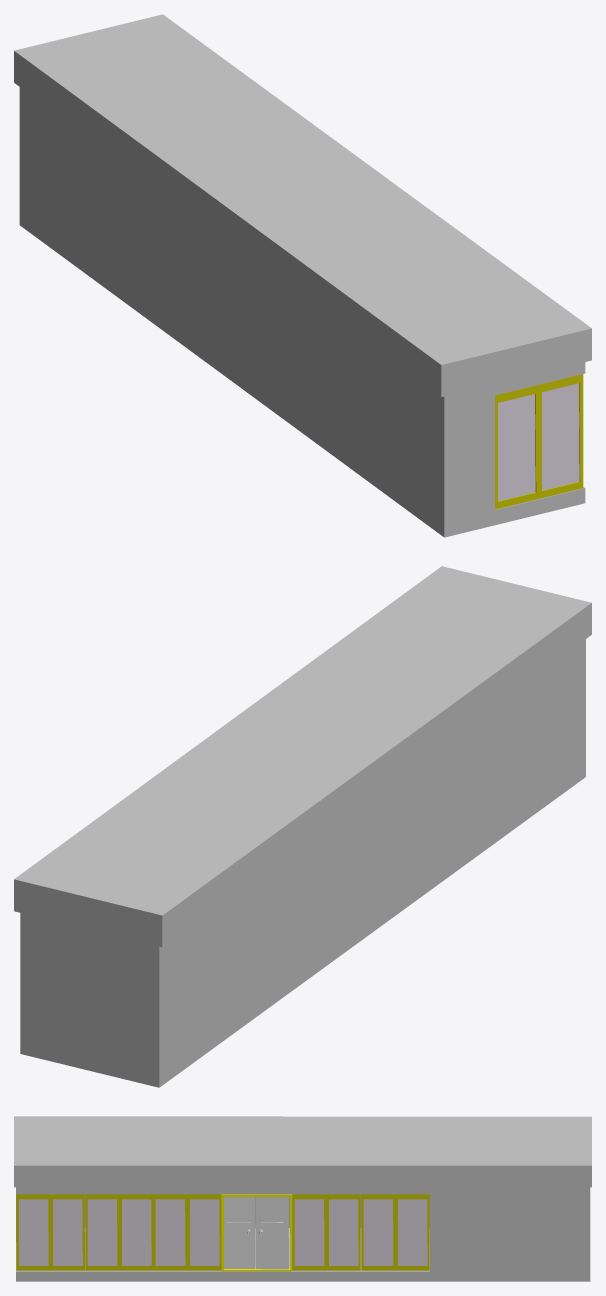
File: Depo_ofis_1.fbx
The picture shows the model from 3 angles, top to bottom: view 1: azimuth 30°, elevation 25°; view 2: azimuth 150°, elevation 25°; view 3: azimuth 270°, elevation 25°; orthographic projection. The views are drawn at different scales.
Parts seen in each view (by area): view 1: Üst_Mimari.003, Üst_Mimari.002, Cube.009_Cube.014, Cube_Cube.004; view 2: Üst_Mimari.003, Üst_Mimari.002; view 3: Üst_Mimari.003, Üst_Mimari.002, Cube.009_Cube.014, Cube_Cube.004, Cylinder.003, Cube.012_Cube.017, Cube.010_Cube.015.
Boxes of the visible parts, box(x1,y1,x2,y2) form: Üst_Mimari.003: box(14, 14, 591, 396); Üst_Mimari.002: box(19, 87, 585, 537); Cube.009_Cube.014: box(498, 383, 579, 501); Cube_Cube.004: box(495, 374, 583, 509); Üst_Mimari.003: box(14, 566, 591, 947); Üst_Mimari.002: box(20, 639, 585, 1087); Üst_Mimari.003: box(14, 1116, 591, 1187); Üst_Mimari.002: box(16, 1187, 590, 1281); Cube.009_Cube.014: box(19, 1199, 427, 1265); Cube_Cube.004: box(16, 1194, 429, 1270); Cylinder.003: box(256, 1197, 288, 1269); Cube.012_Cube.017: box(224, 1197, 255, 1268); Cube.010_Cube.015: box(221, 1194, 292, 1271).
Bounding box in the file's own units: 209 × 231 × 1029.
